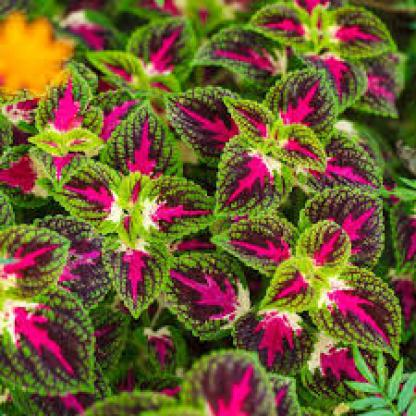Bunga Coleus: (23, 84, 371, 397)
